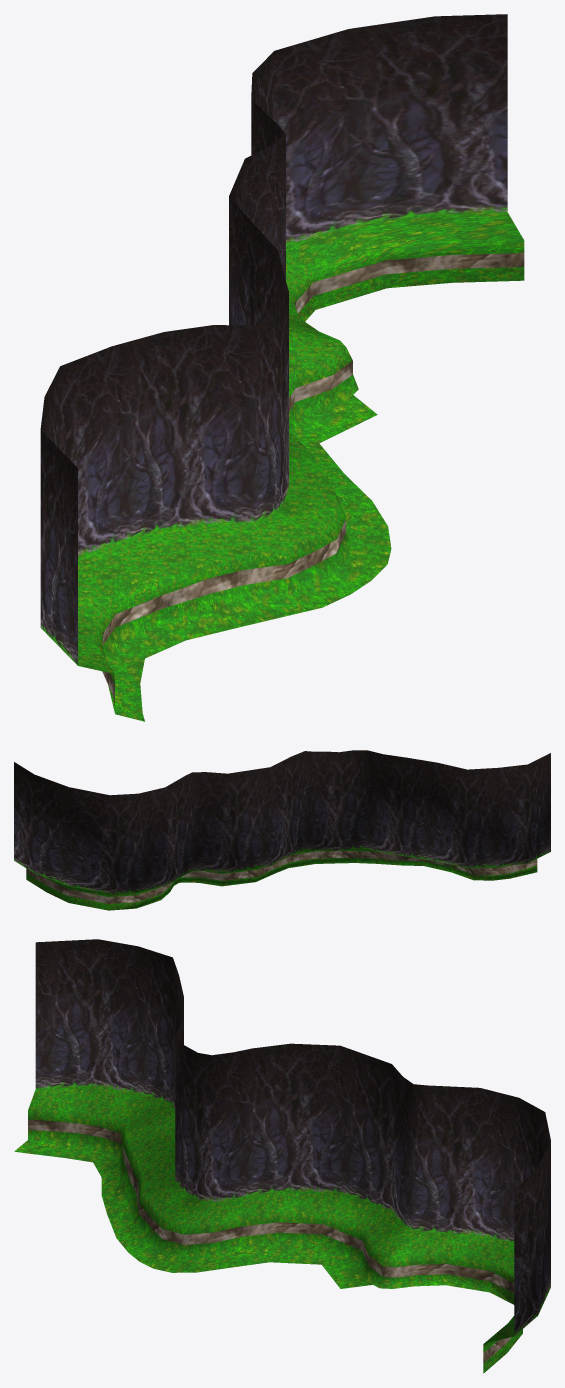
File: EKH_ENTRANCE_PS_EN_BANK4746__GX.fbx
3 views of the same model, one above another, from view 1: azimuth 30°, elevation 25°; view 2: azimuth 150°, elevation 25°; view 3: azimuth 270°, elevation 25° (orthographic). The views are drawn at different scales.
Visible parts, largest first — view 1: EKH_ENTRANCE_PS_EN_BANK4746__GX; view 2: EKH_ENTRANCE_PS_EN_BANK4746__GX; view 3: EKH_ENTRANCE_PS_EN_BANK4746__GX.
Boxes of the visible parts, left/top/right/bottom form: EKH_ENTRANCE_PS_EN_BANK4746__GX: left=40, top=14, right=524, bottom=721; EKH_ENTRANCE_PS_EN_BANK4746__GX: left=14, top=750, right=550, bottom=910; EKH_ENTRANCE_PS_EN_BANK4746__GX: left=14, top=939, right=550, bottom=1373.
Bounding box in the file's own units: 458056 × 169202 × 381220.
Materials: 3 (3 with a texture image).
